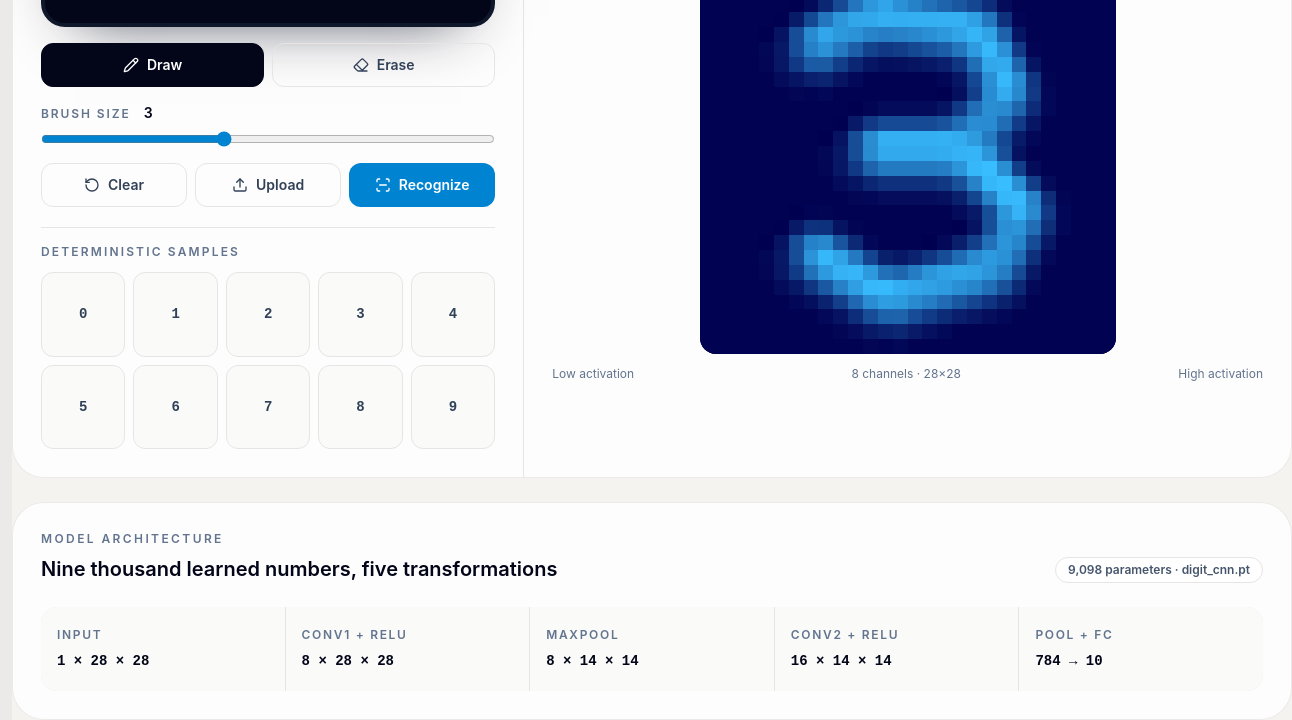
DigitLabPage › recognizes a selected deterministic sample immediately
(page scrolled)
Click the button with test id "digit-sample-8".
click(360, 407)  # box [318,365,403,449]
(page scrolled)
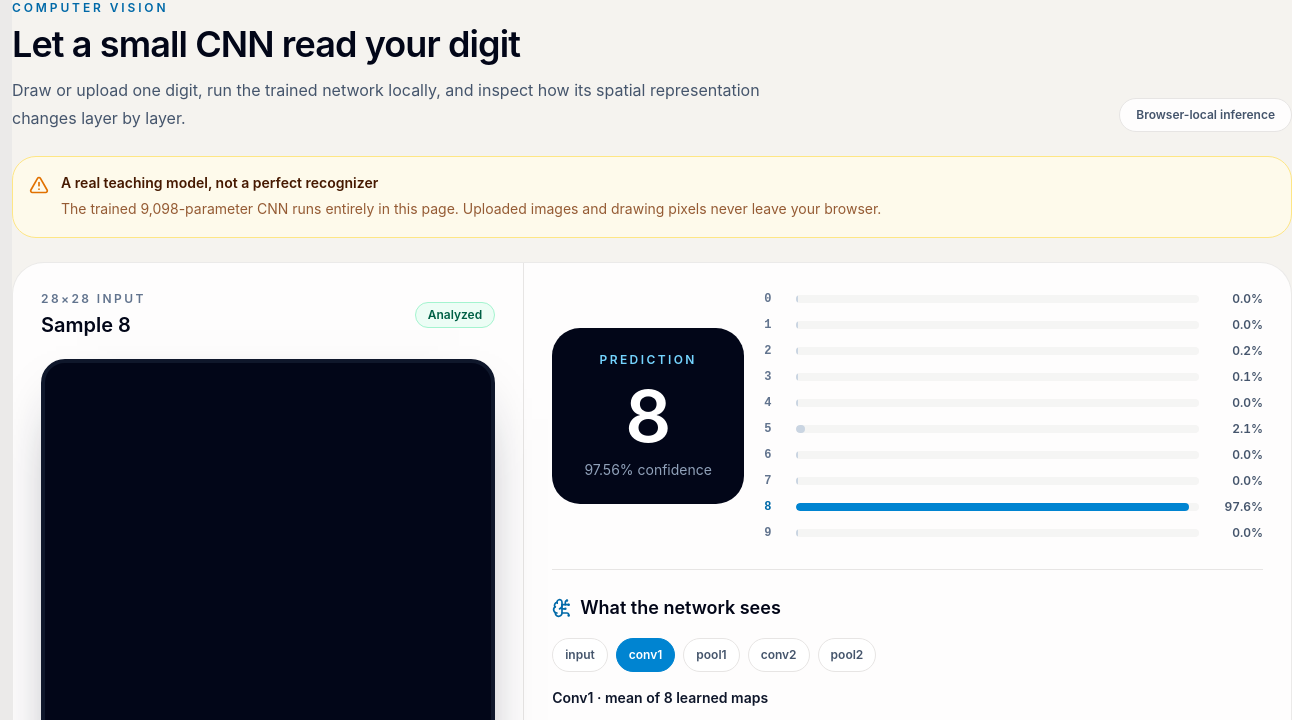
Expected: the text with test id "digit-prediction" reads "8", [625,372,672,459]
Expected: the heading "Sample 8" is shown, [41,311,146,339]
